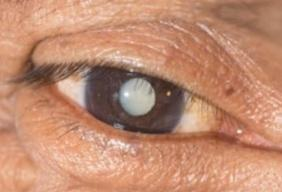eye: (84, 66, 186, 135)
